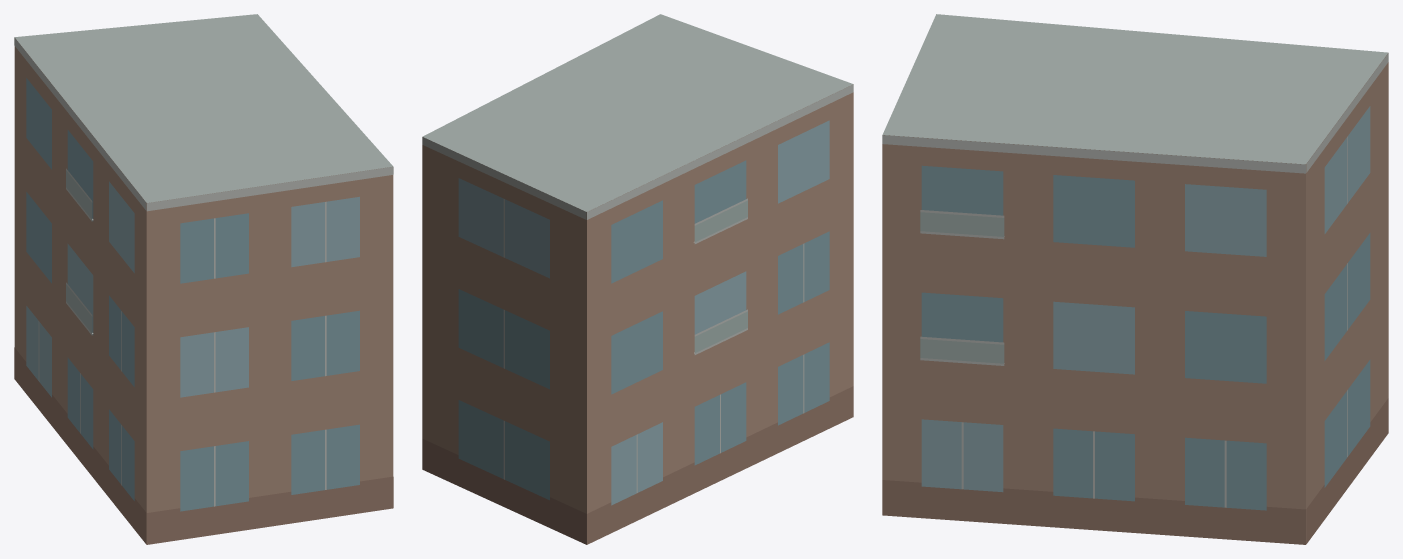
The model's file is survey-upis-32509089.glb.
3 views of the same model, side by side, from view 1: azimuth 30°, elevation 25°; view 2: azimuth 150°, elevation 25°; view 3: azimuth 270°, elevation 25° (orthographic). The views are drawn at different scales.
Parts seen in each view (by area): view 1: survey-upis-32509089.tmp; view 2: survey-upis-32509089.tmp; view 3: survey-upis-32509089.tmp.
Part boxes in pixels (x1,y1,x2,y2): survey-upis-32509089.tmp: [14, 14, 393, 544]; survey-upis-32509089.tmp: [422, 14, 853, 544]; survey-upis-32509089.tmp: [882, 14, 1388, 544].
Size of the model in its own units: 8.57 by 10.1 by 12.19.
